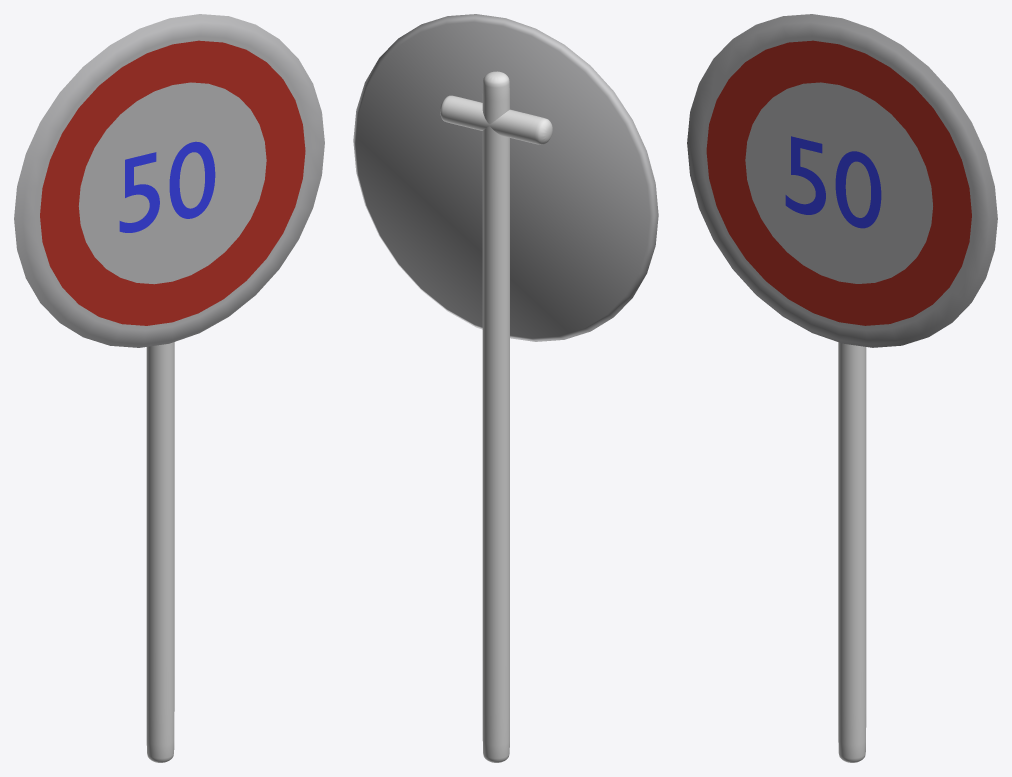
The model's file is Max_sign.fbx.
The picture shows the model from 3 angles, left to right: view 1: azimuth 30°, elevation 25°; view 2: azimuth 150°, elevation 25°; view 3: azimuth 330°, elevation 25°; orthographic projection.
Visible parts, largest first — view 1: Sign_blue.003, Pole.004, Text; view 2: Sign_blue.003, Pole.004; view 3: Sign_blue.003, Pole.004, Text.
Boxes of the visible parts, box(x1,y1,x2,y2) form: Sign_blue.003: box(14, 14, 324, 347); Pole.004: box(146, 342, 174, 762); Text: box(119, 141, 215, 232); Sign_blue.003: box(353, 14, 658, 341); Pole.004: box(440, 71, 552, 762); Sign_blue.003: box(687, 14, 997, 347); Pole.004: box(838, 342, 866, 762); Text: box(785, 136, 881, 228).
Size of the model in its own units: 121 by 278 by 13.32.
